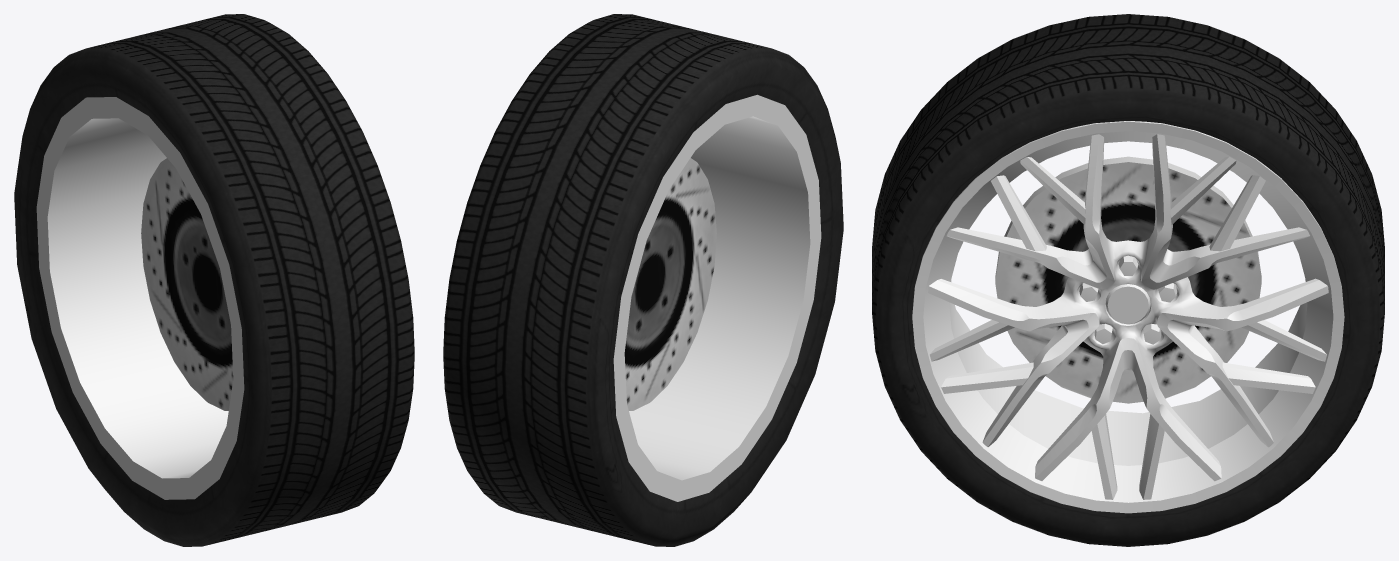
File: cheetah_wheel.gltf
3 renders of one model, left to right at view 1: azimuth 30°, elevation 25°; view 2: azimuth 150°, elevation 25°; view 3: azimuth 270°, elevation 25°, orthographic.
Visible parts, largest first — view 1: Wh_FL_Cheetah_Chrome_0; view 2: Wh_FL_Cheetah_Chrome_0; view 3: Wh_FL_Cheetah_Chrome_0.
Part boxes in pixels (x1,y1,x2,y2): Wh_FL_Cheetah_Chrome_0: [14, 14, 414, 546]; Wh_FL_Cheetah_Chrome_0: [443, 14, 843, 546]; Wh_FL_Cheetah_Chrome_0: [872, 14, 1384, 546].
Bounding box in the file's own units: 0.2715 × 0.7664 × 0.7664.
2 materials, 1 textured.
